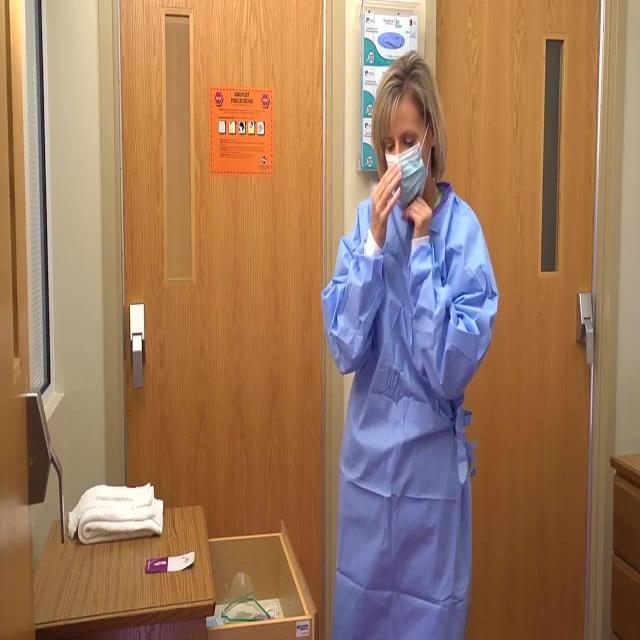Coverall: (324, 172, 483, 640)
Mask: (375, 142, 430, 207)
